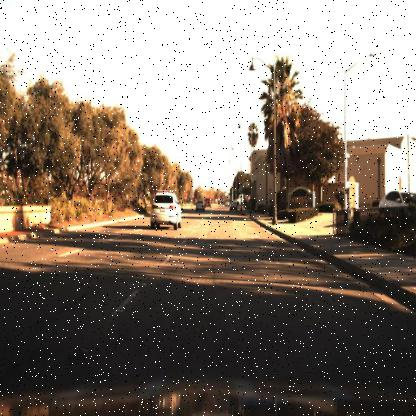car: (142, 182, 192, 233), (190, 193, 208, 214), (228, 194, 242, 215), (201, 194, 213, 208)
truck: (236, 187, 251, 210)
